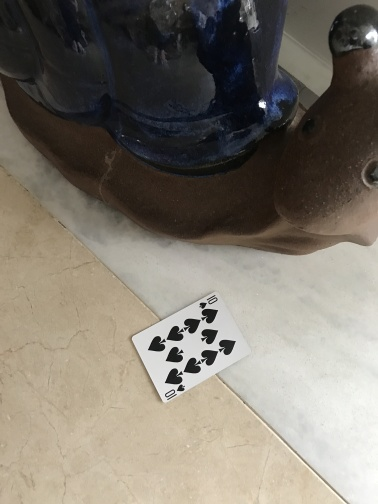ten: (130, 289, 251, 405)
